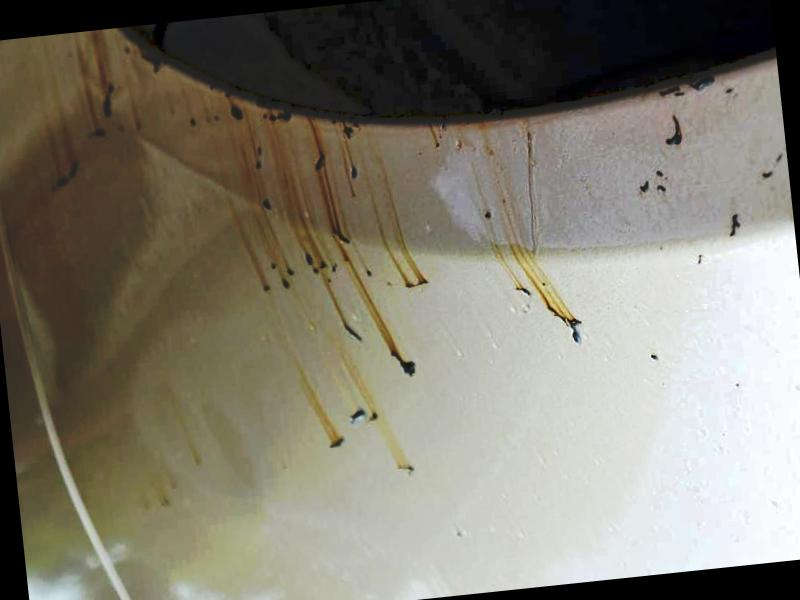Bird Poop: (307, 119, 414, 375), (268, 126, 360, 339), (492, 167, 580, 345), (241, 146, 294, 293), (375, 177, 427, 287), (355, 380, 413, 474), (482, 206, 531, 297), (295, 359, 342, 447), (89, 31, 115, 117), (341, 124, 357, 196), (138, 46, 165, 72), (52, 166, 75, 190), (666, 116, 682, 145), (692, 79, 714, 91), (655, 171, 666, 193), (731, 215, 739, 237), (352, 412, 365, 425), (641, 181, 654, 193), (660, 89, 679, 96), (231, 107, 241, 119), (277, 112, 290, 121), (648, 354, 658, 363), (346, 127, 352, 138), (762, 172, 772, 178)
